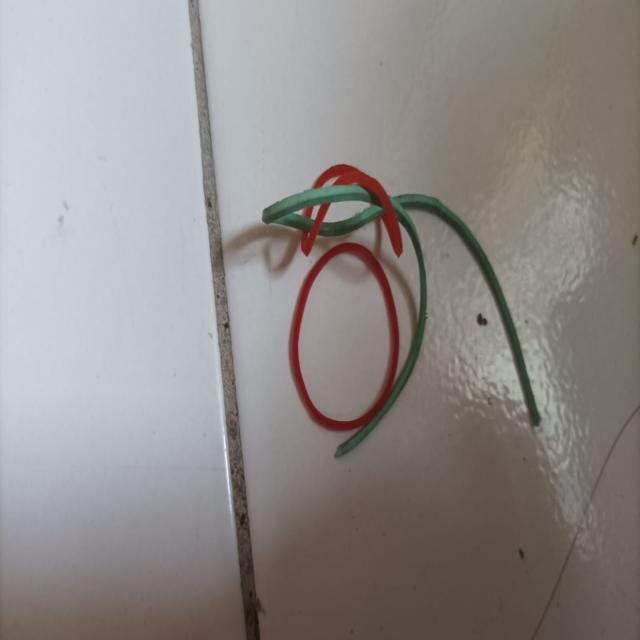Organik: (262, 153, 556, 490)
